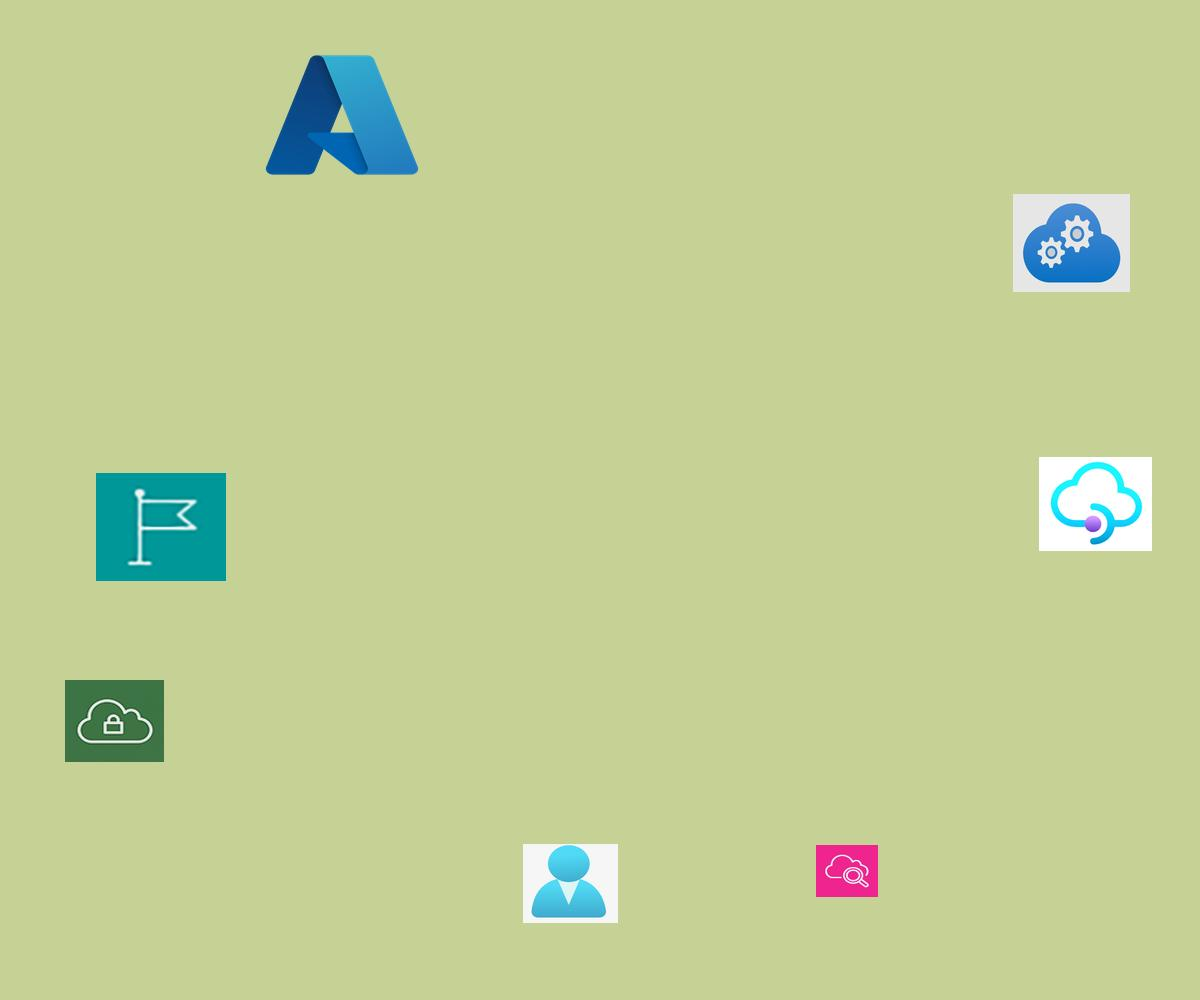AWS-CloudWatch: (816, 845, 878, 897)
AWS-Private_vpc: (65, 680, 164, 762)
AWS-Region: (96, 473, 226, 581)
Azure_api_gateway: (1039, 457, 1152, 551)
Azure_cloud_services: (1013, 194, 1130, 292)
Azure_services: (259, 46, 425, 184)
Azure_users: (523, 844, 618, 923)
